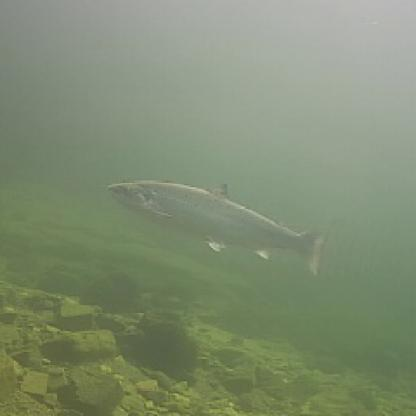salmon: (99, 170, 331, 279)
